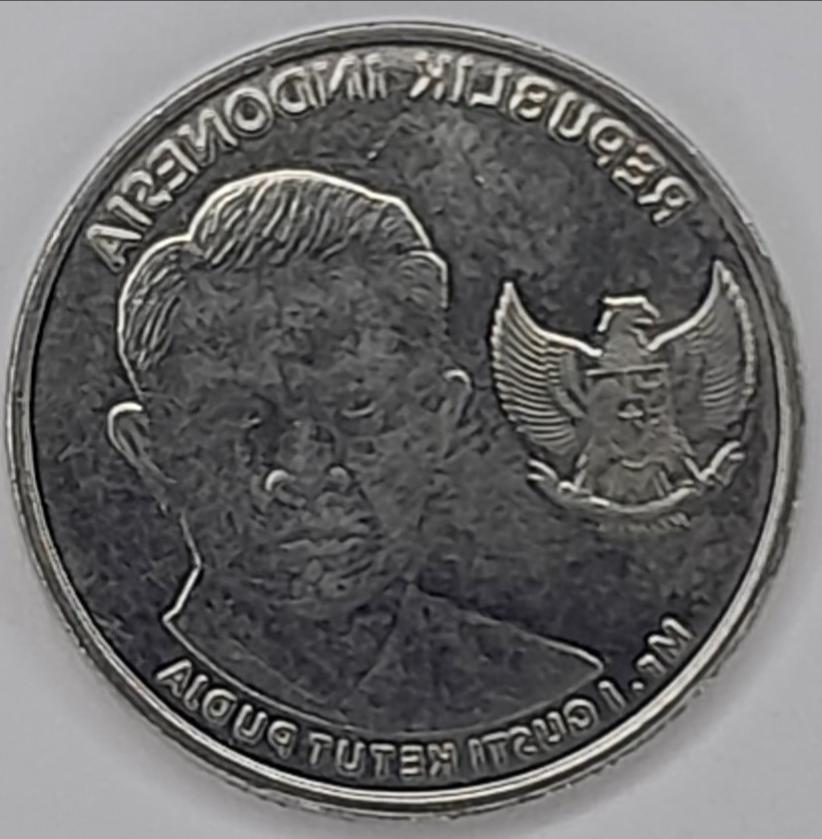coin_1000_e2016: (14, 17, 811, 839)
